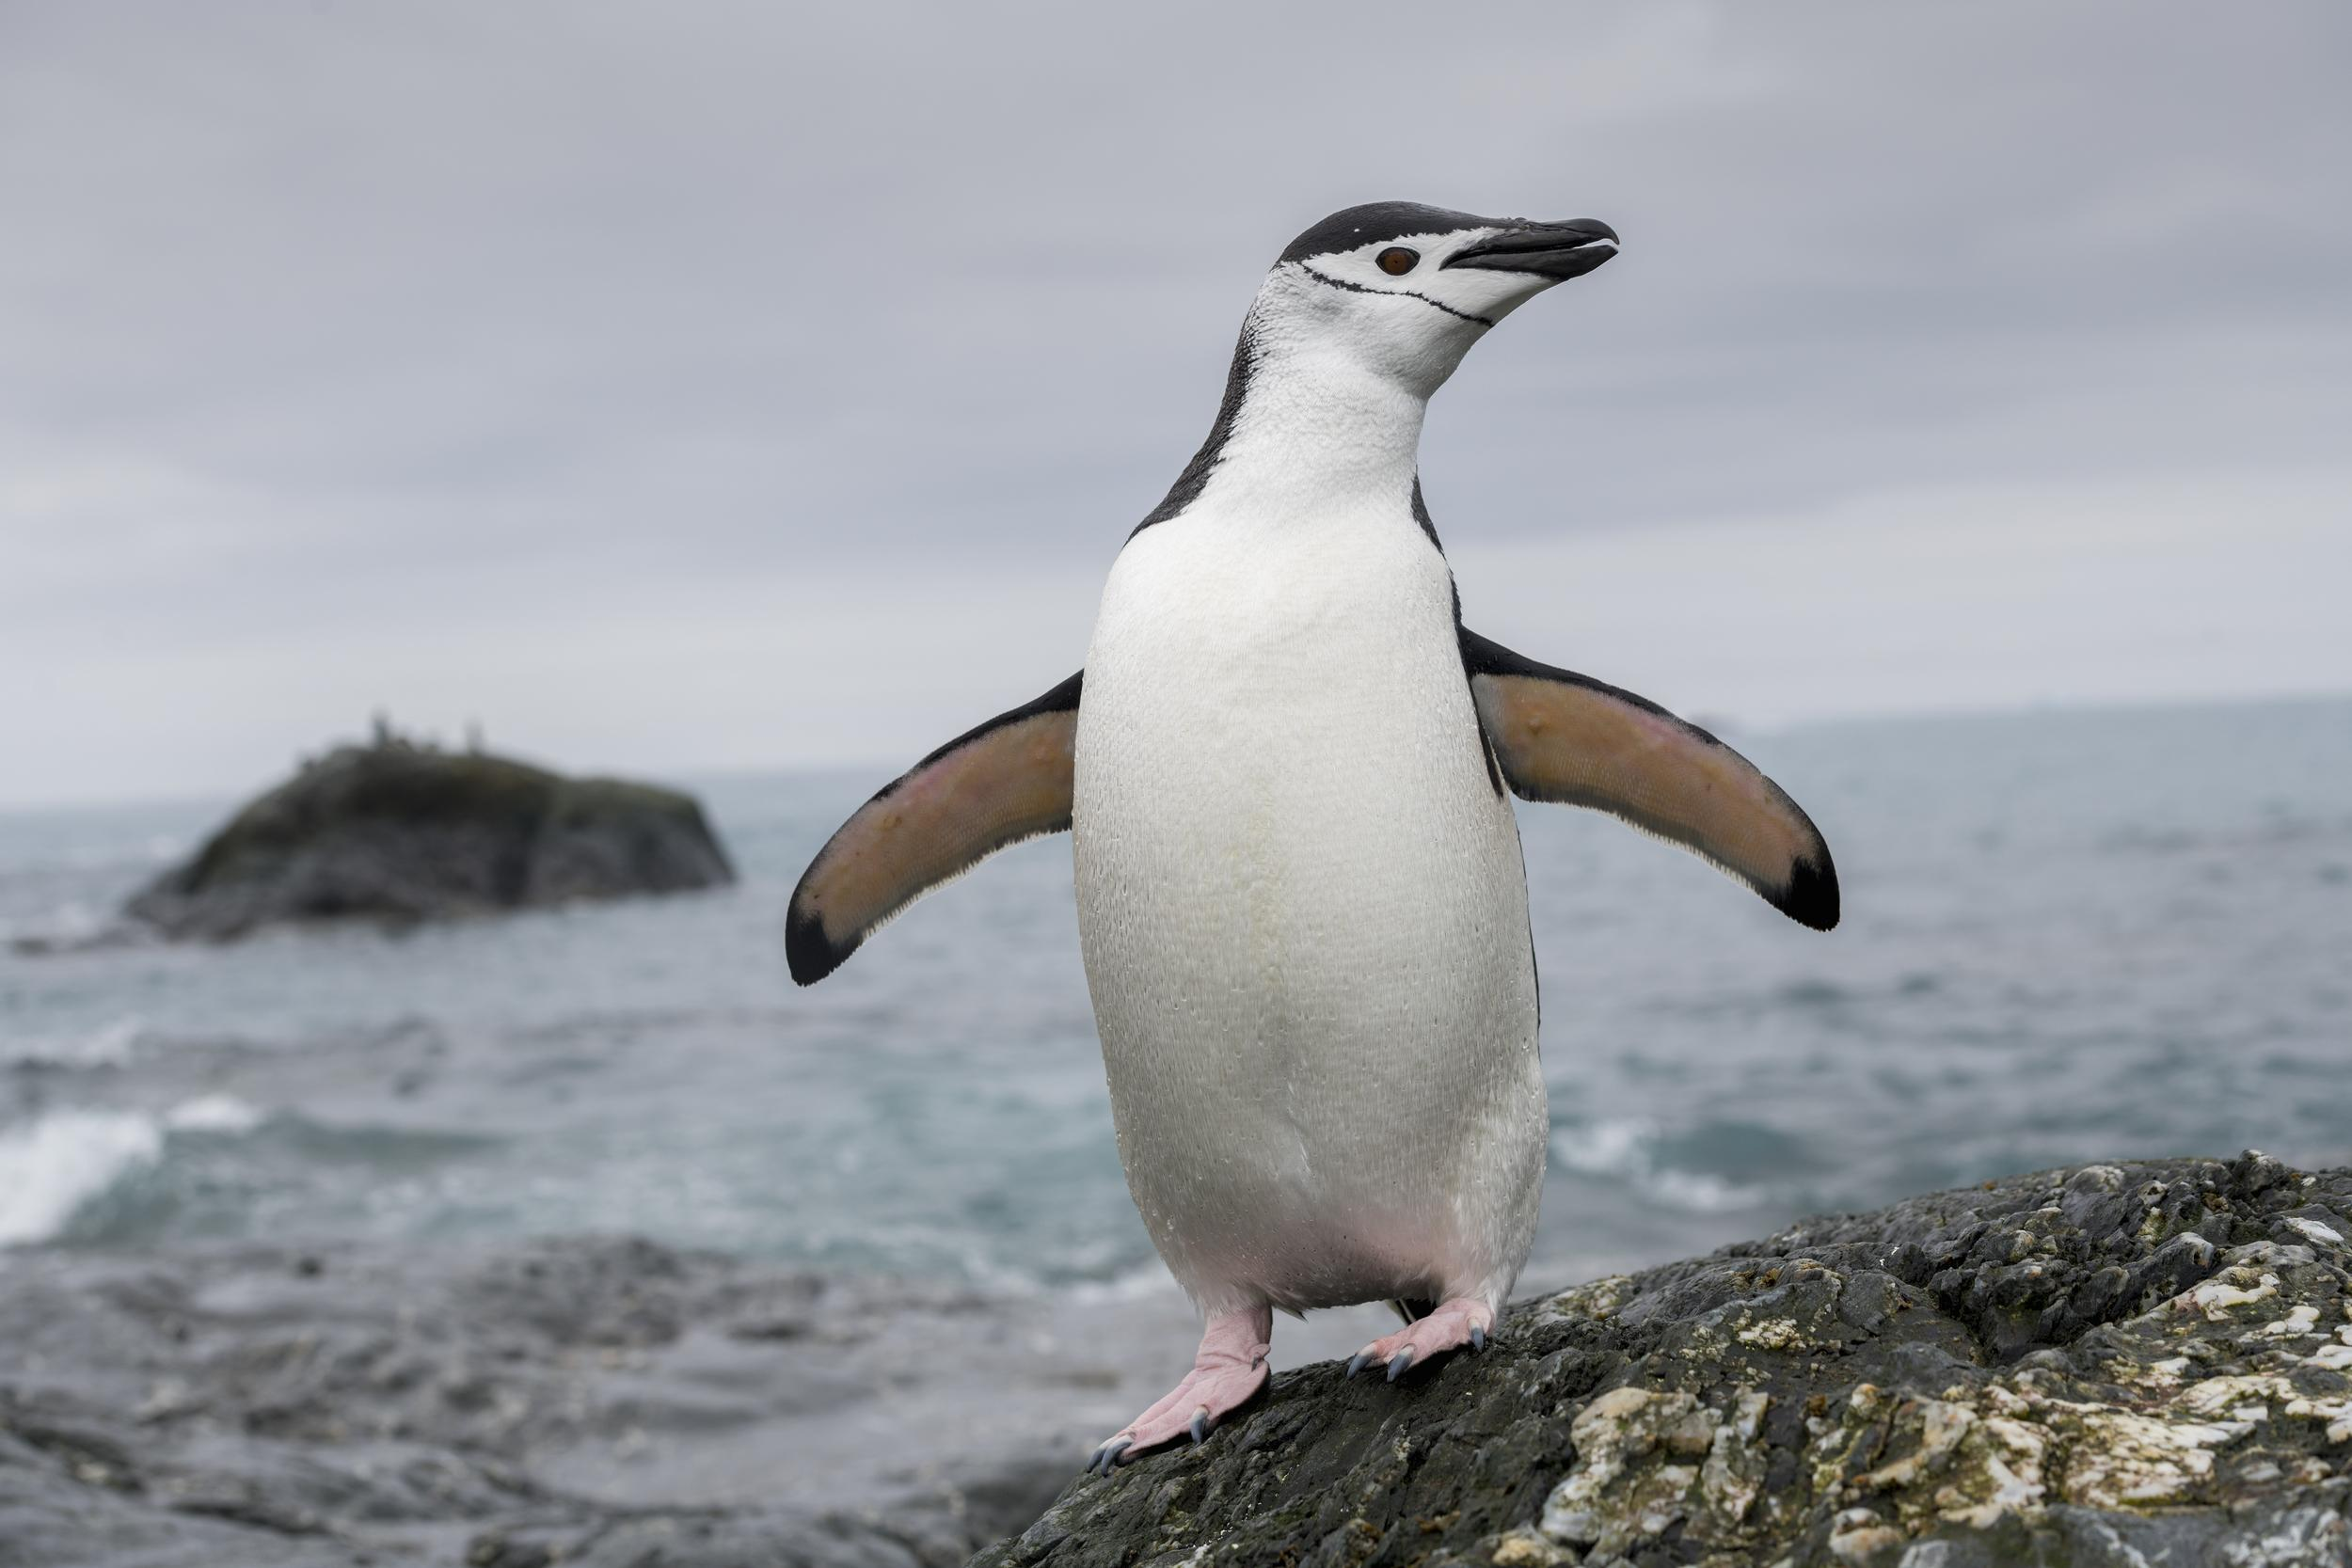chinstrap: (696, 91, 1902, 1426)
